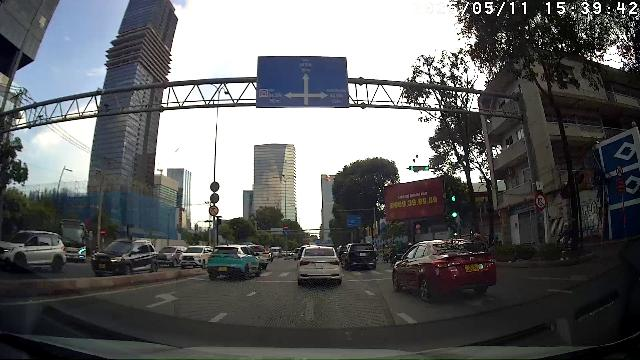103a-cam-oto: (615, 165, 624, 177)
103b-cam-oto-re-phai: (534, 193, 547, 209), (209, 206, 219, 216)
